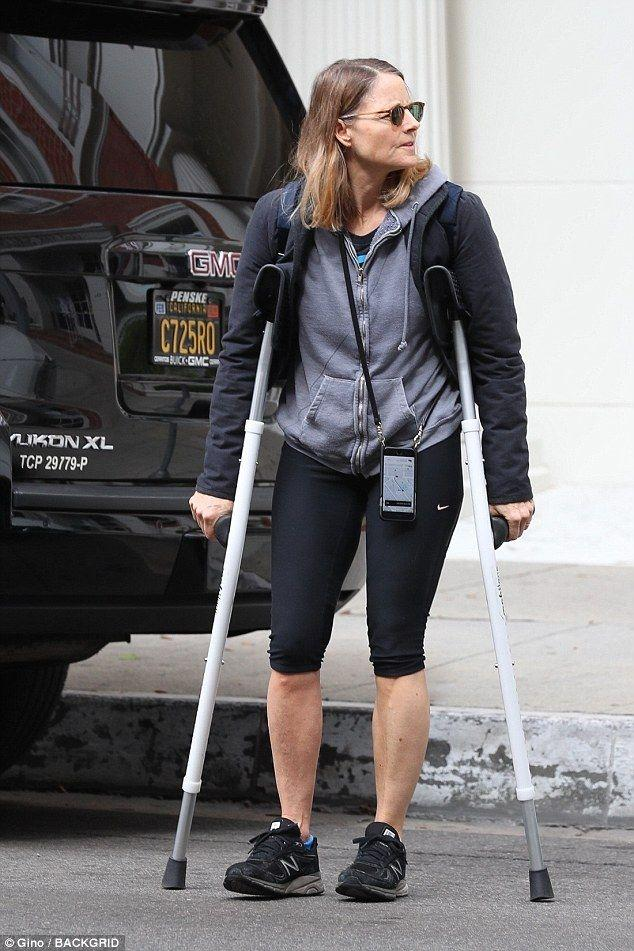crutches: (162, 57, 555, 902)
